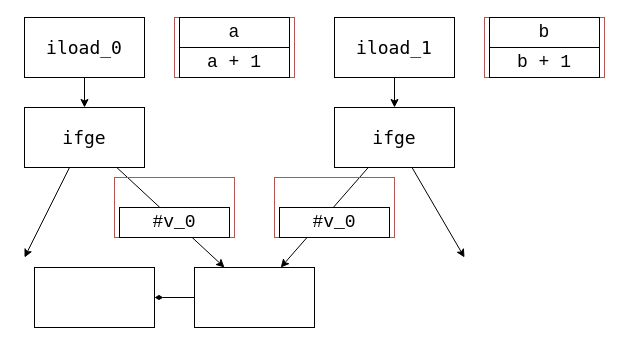
Some shapes in this 622 by 345 pixel diagram are drawn without their labels. The shapes that lost their labels are listed below. From the top down, each one's centre as x and y in pixels, then its label:
At (94,297): "b = #v_0".
At (254,297): "istore_1".
